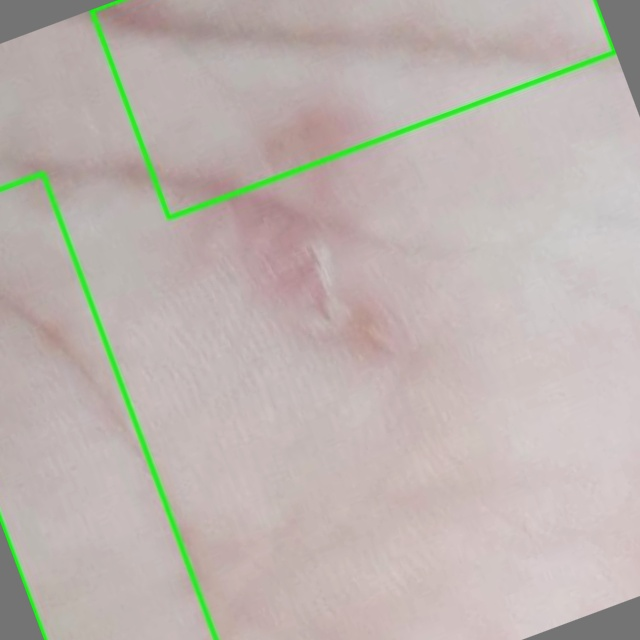Scabies: (92, 0, 615, 217)
